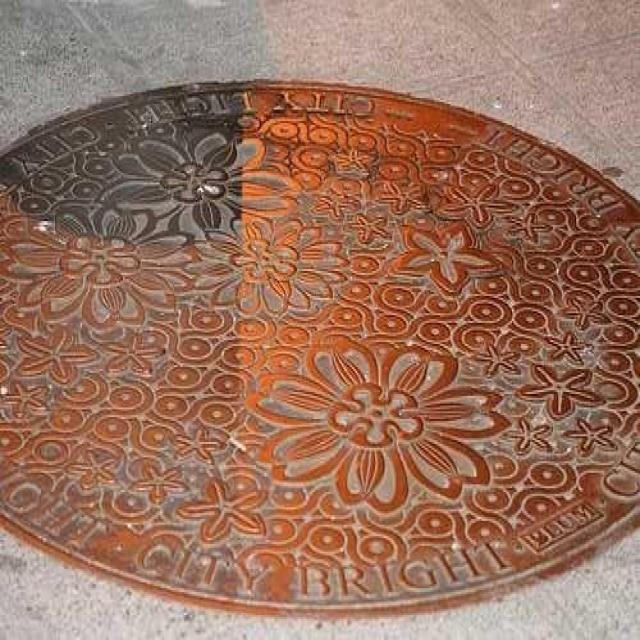manhole: (0, 79, 640, 621)
